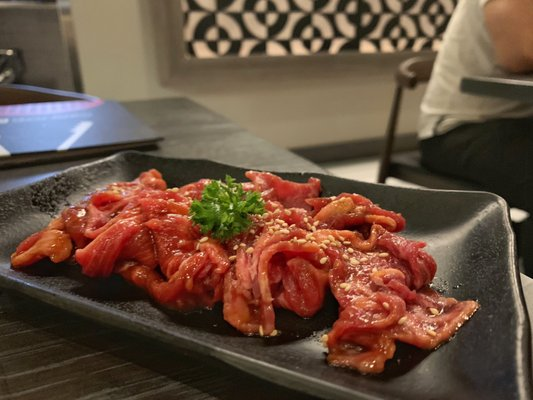curry: (188, 177, 265, 241)
